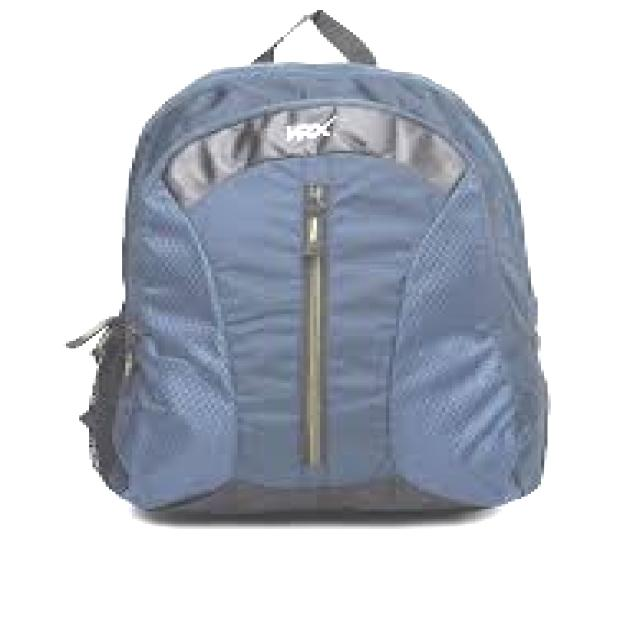backpack: (64, 9, 552, 518)
